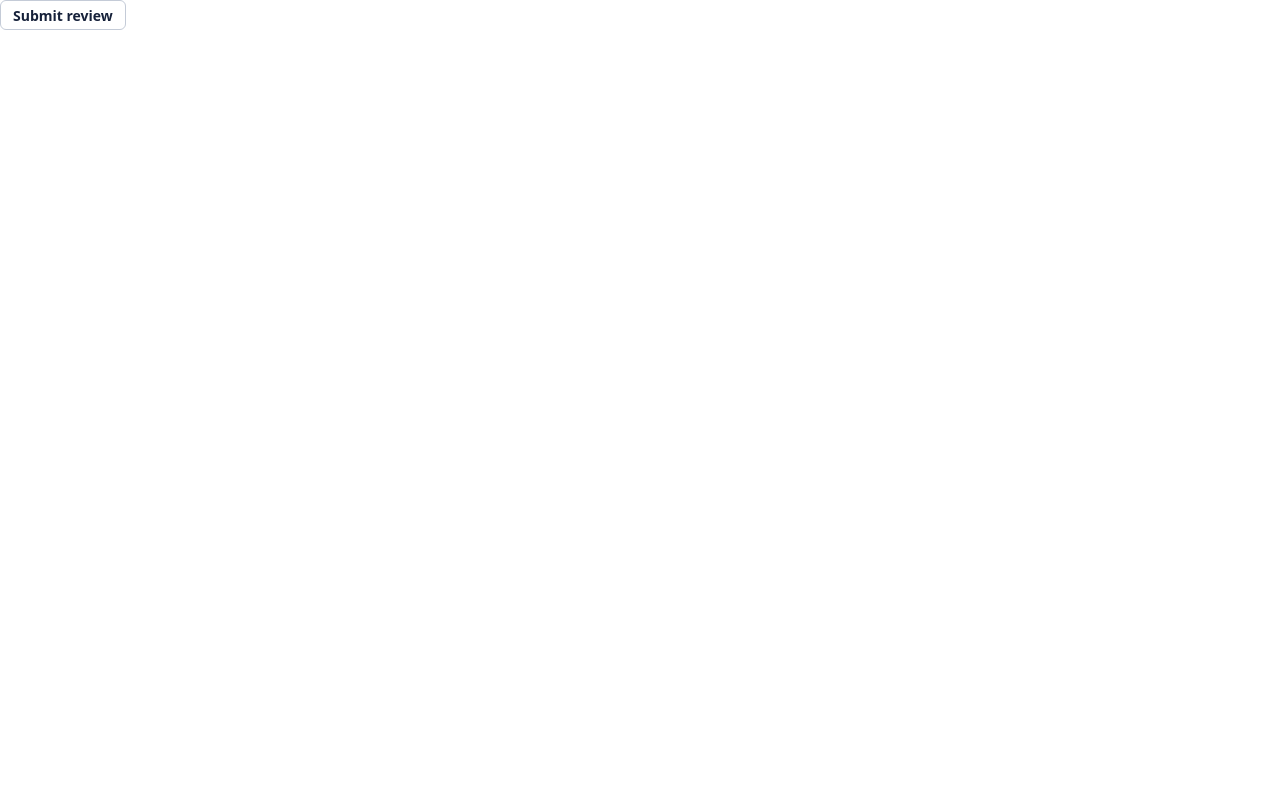
Test case: SubmitReview › keeps the summary cleared after the AI review was used once
Step 1. Click the button "Submit review" → (63, 15), box [0,0,126,30]
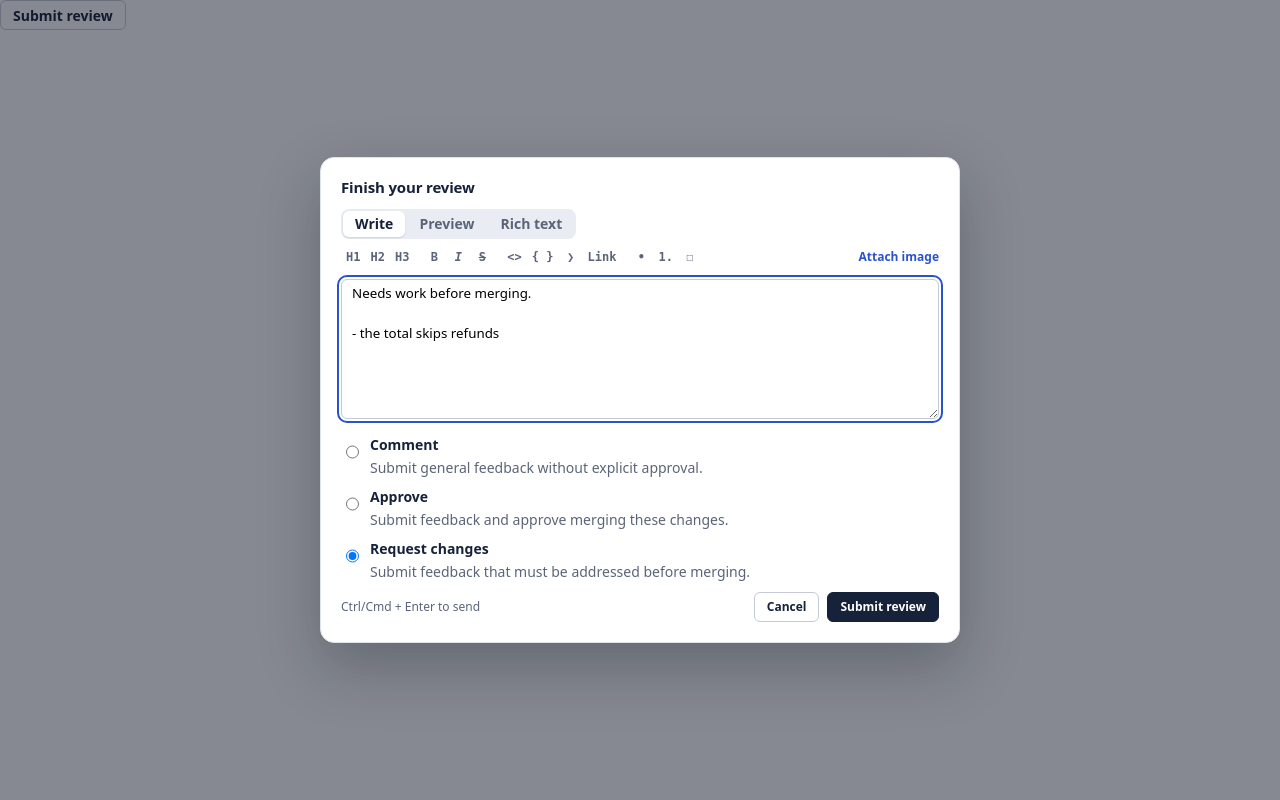
Step 2. Clear the text box named "Review summary (Markdown)" → (640, 349), box [341,279,939,419]
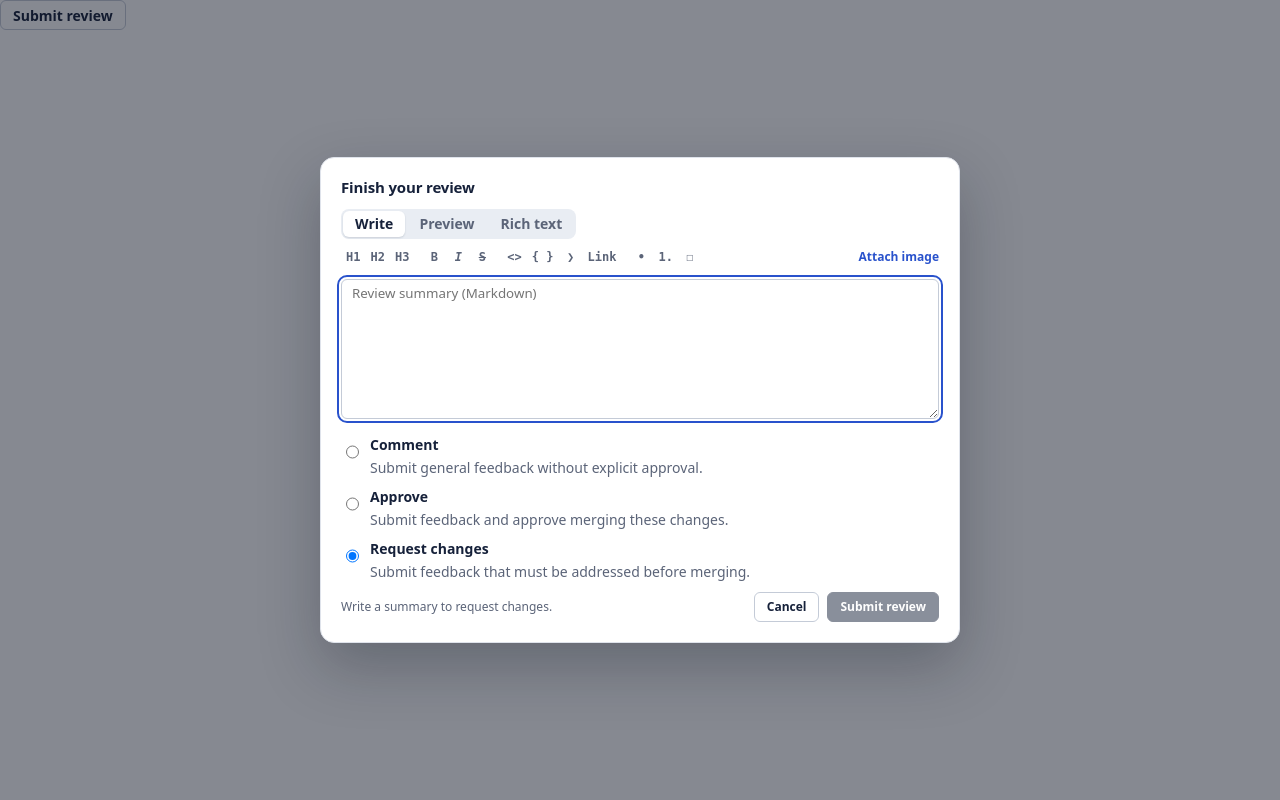
Step 3. Click the button "Cancel" → (787, 607), box [754,592,820,622]
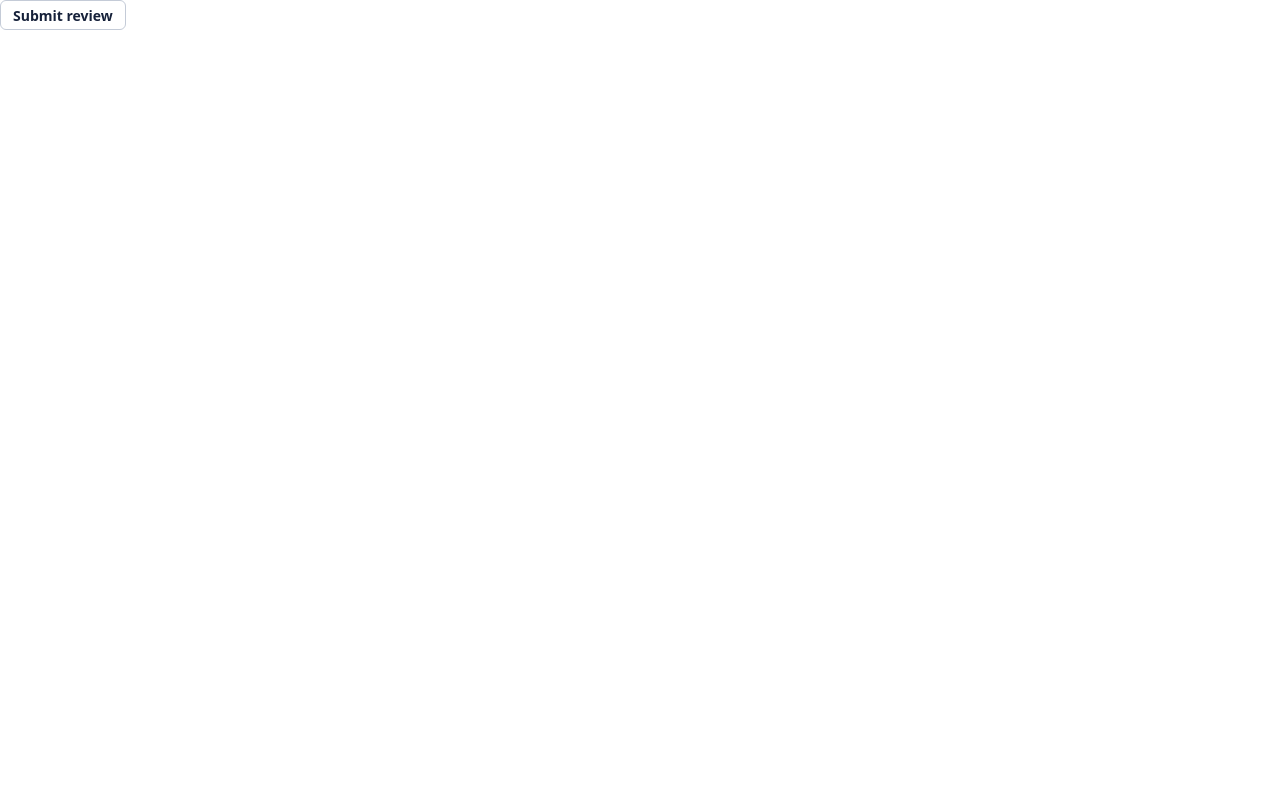
Step 4. Click the button "Submit review" → (63, 15), box [0,0,126,30]
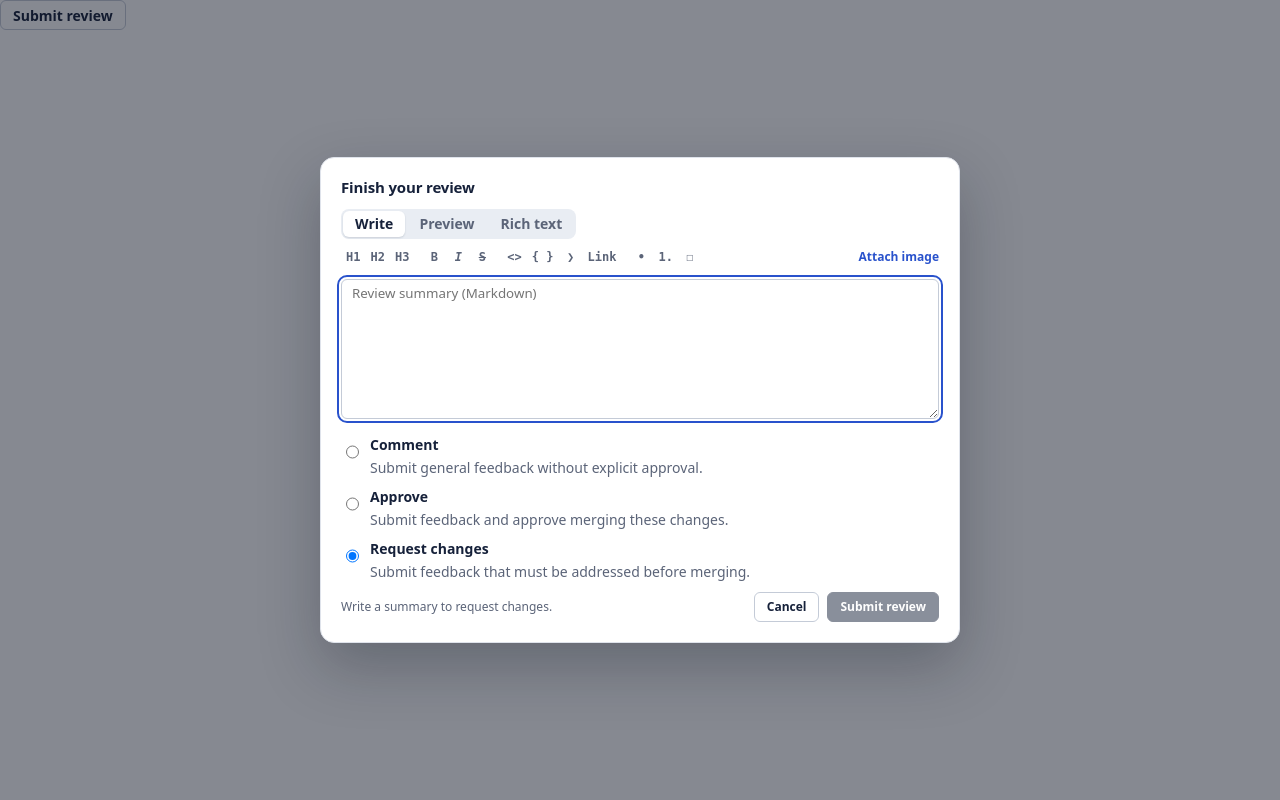
Check: the text box labelled "Review summary (Markdown)" is empty, box [341,279,939,419]
